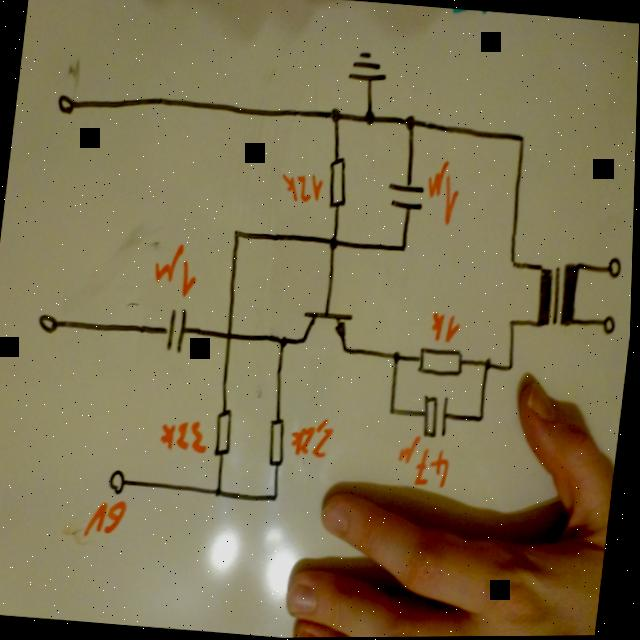capacitor: (418, 392, 457, 441), (159, 304, 193, 356), (384, 177, 428, 217)
crossover: (222, 327, 239, 345)
ground: (343, 43, 393, 89)
junction: (401, 112, 421, 135), (324, 233, 345, 254), (327, 103, 346, 125), (361, 107, 379, 130), (513, 129, 532, 148), (505, 254, 521, 275), (482, 354, 498, 375), (386, 402, 403, 421), (391, 347, 407, 367), (213, 483, 229, 502), (231, 225, 245, 244), (506, 315, 521, 332), (278, 333, 293, 350), (476, 409, 489, 427), (272, 489, 285, 505), (398, 240, 411, 256), (506, 359, 518, 376)
resistor: (414, 343, 469, 381), (323, 152, 357, 213), (262, 413, 294, 473), (210, 404, 242, 462)
terminal: (104, 465, 134, 497), (36, 306, 64, 338), (54, 87, 80, 119), (605, 253, 628, 283), (602, 312, 622, 337)
text: (394, 432, 459, 494), (147, 238, 205, 303), (422, 159, 469, 229), (155, 414, 214, 460), (85, 493, 135, 541), (290, 414, 339, 462), (277, 168, 327, 206), (428, 306, 466, 347)
transformer: (531, 256, 587, 334)
transistor: (296, 298, 362, 362)
